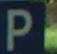Parking: (0, 3, 45, 53)
